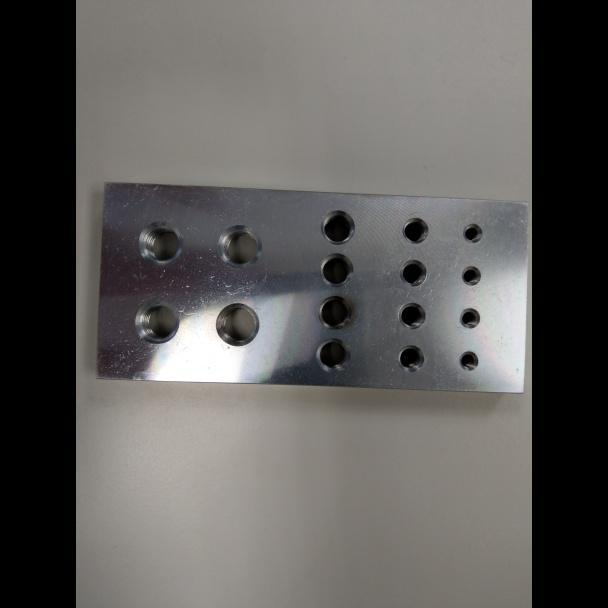hole: (215, 222, 264, 269), (214, 300, 262, 346), (133, 300, 182, 345), (137, 220, 183, 266), (319, 208, 356, 246), (318, 252, 355, 289), (317, 294, 355, 330), (314, 337, 352, 373), (397, 258, 429, 287), (397, 300, 427, 330), (396, 343, 427, 372), (401, 215, 431, 244), (462, 222, 484, 244), (459, 307, 481, 329), (460, 265, 482, 286), (459, 350, 479, 370)
